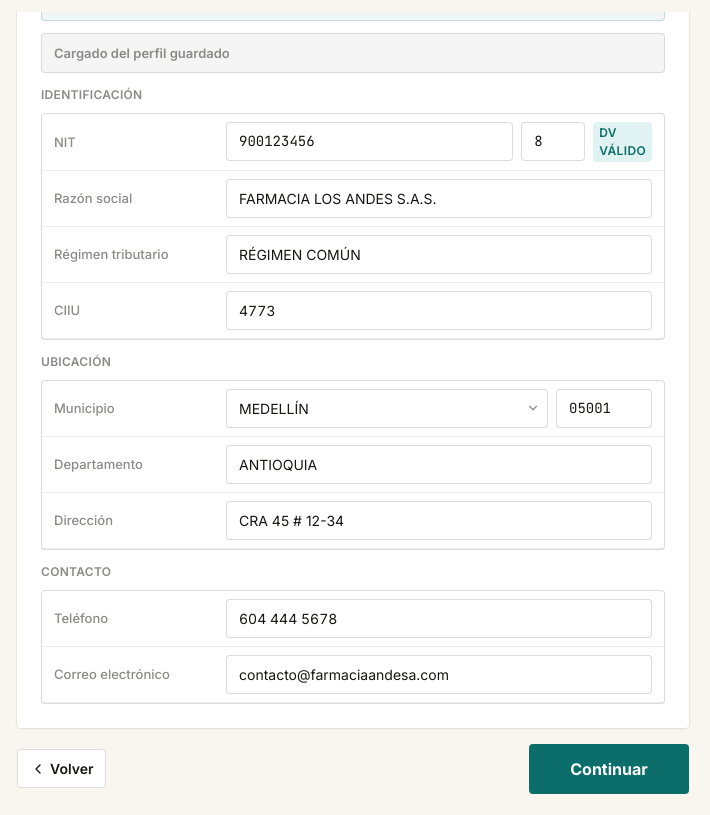
Scenario: CompanySetupWizard › edit mode › prefills the resolution step from the saved draft
(page scrolled)
Click the button "Continuar" at (609, 769), box [529, 744, 689, 794]
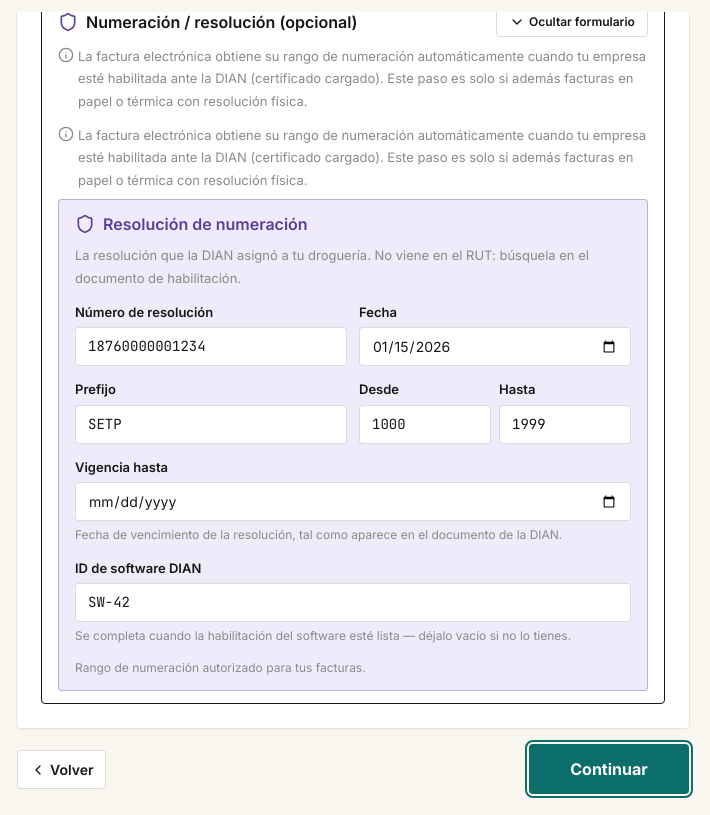
Check: the field labelled "Número de resolución" holds "18760000001234", box [75, 327, 347, 366]
Check: the date field labelled "Fecha" holds "2026-01-15", box [359, 327, 631, 366]
Check: the field labelled "Prefijo" holds "SETP", box [75, 405, 347, 444]
